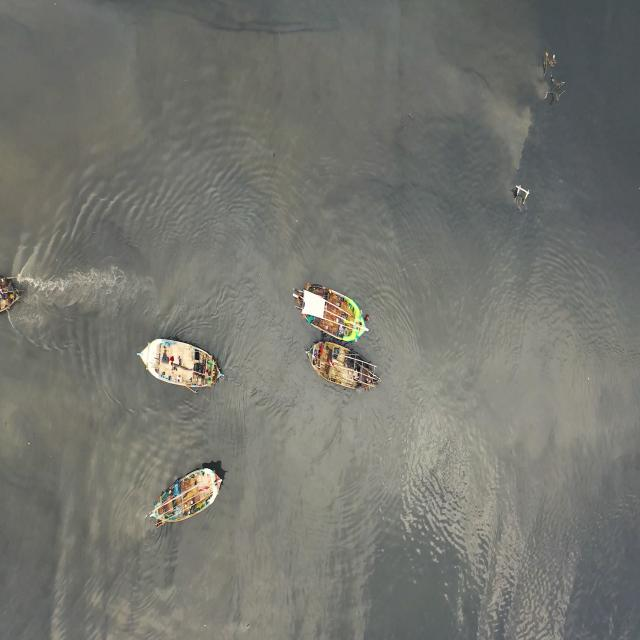ship: (133, 334, 225, 393), (291, 278, 374, 339), (146, 462, 222, 527), (297, 339, 383, 395), (0, 258, 20, 325)
